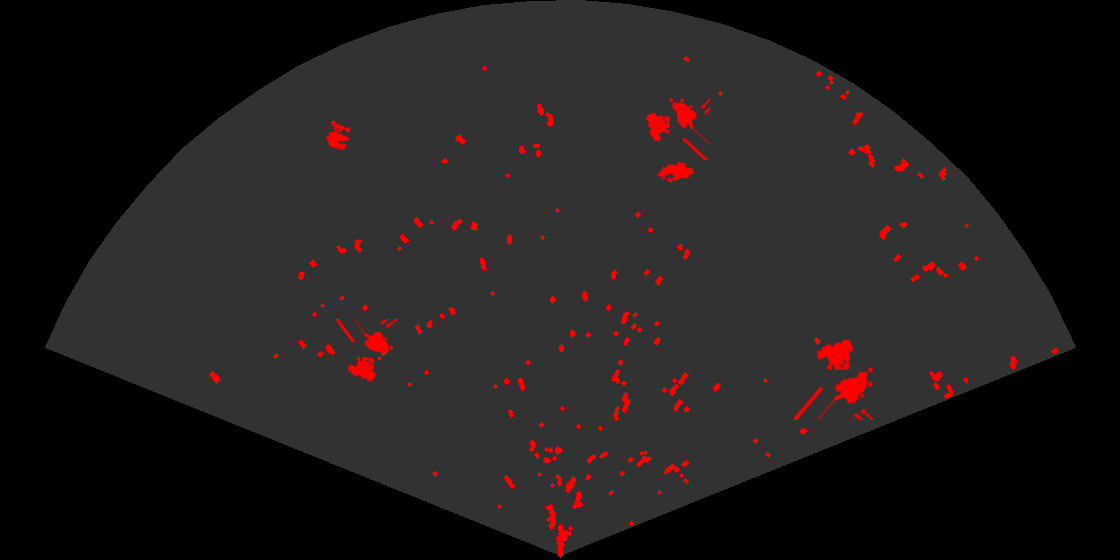AUV: (655, 160, 696, 182)
ball: (324, 122, 352, 152)
cage: (794, 338, 877, 420), (333, 319, 401, 383), (644, 96, 710, 160)
